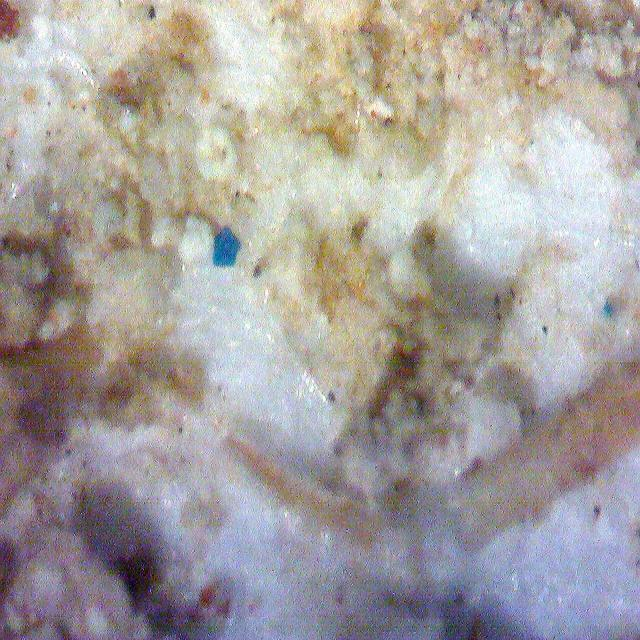microplastic: (212, 225, 242, 267)
